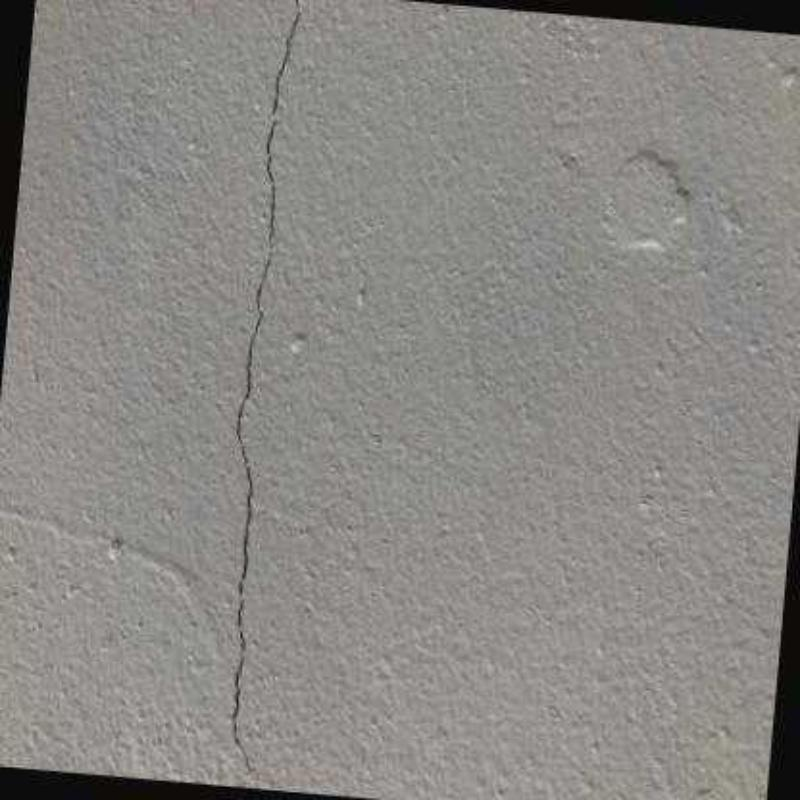pothole: (233, 119, 276, 788), (272, 1, 300, 116)
